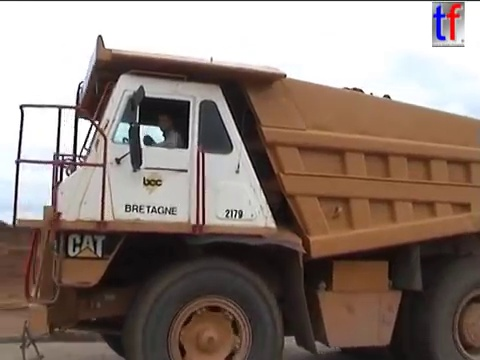truck: (8, 31, 480, 360)
